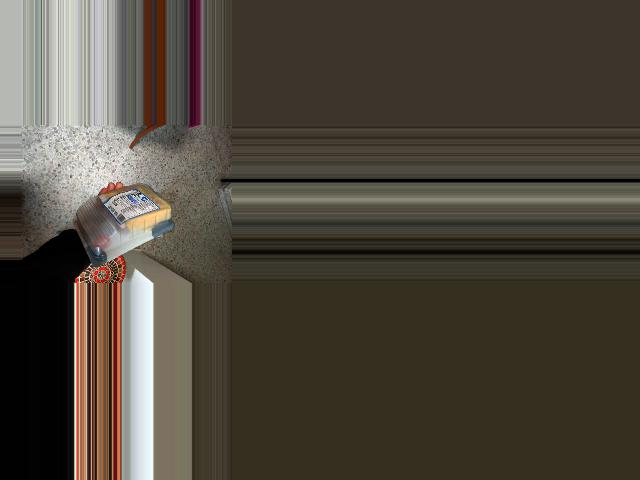cheese: (58, 181, 178, 265)
